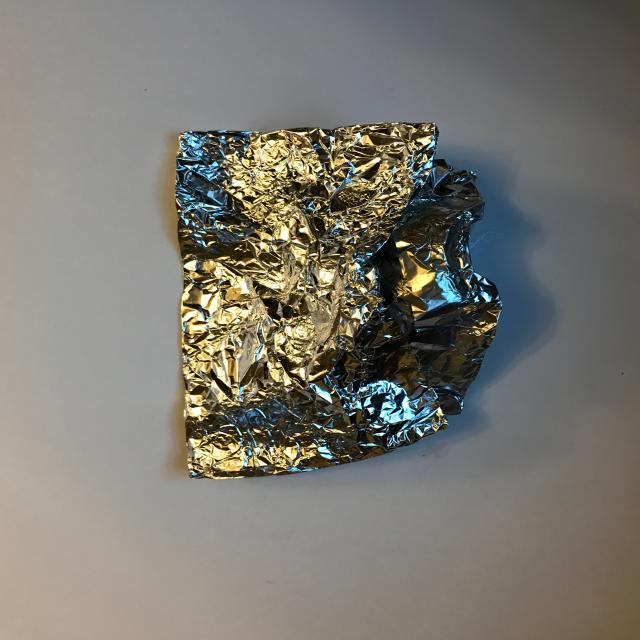metal: (175, 121, 502, 480)
